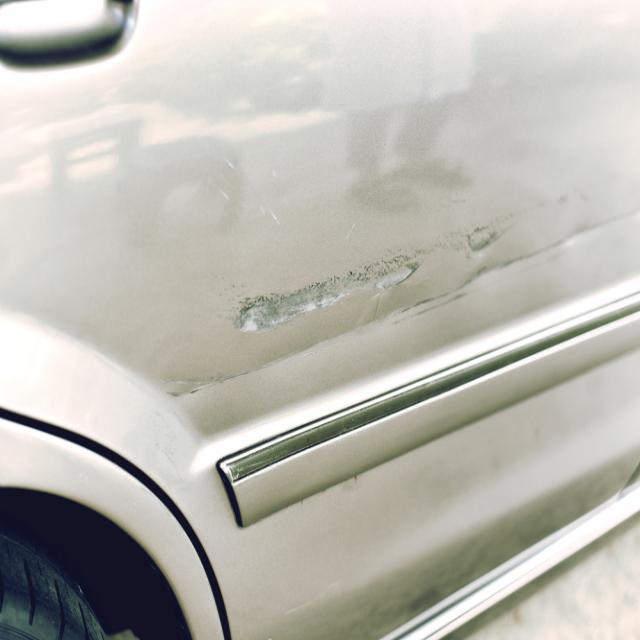Dechirure: (149, 159, 620, 404)
